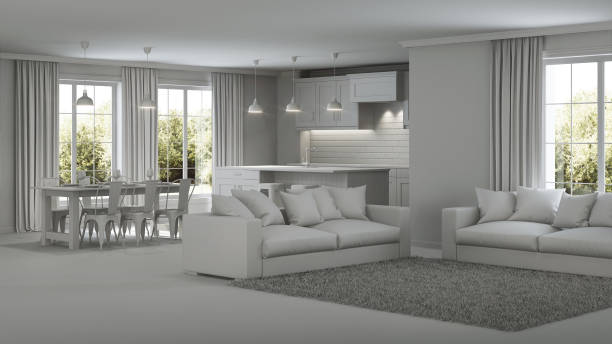dining table set: (33, 179, 193, 250)
sofa: (178, 184, 413, 281), (440, 187, 612, 277)
